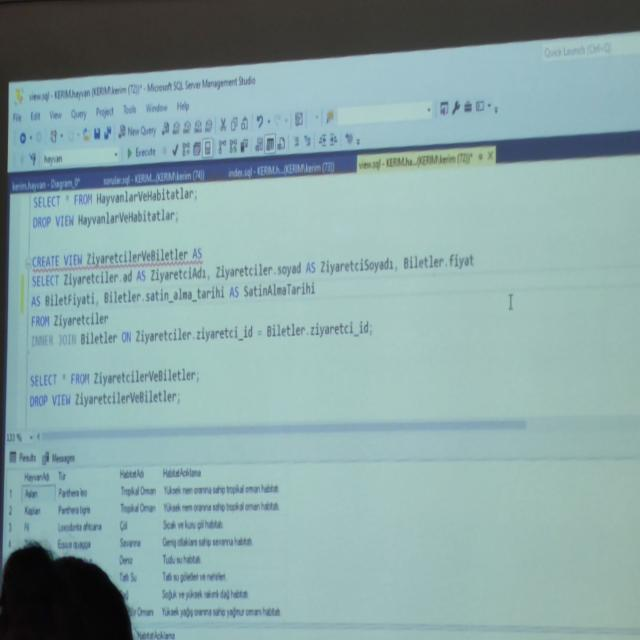text: (30, 215, 481, 348), (27, 360, 203, 418), (31, 182, 201, 241)
